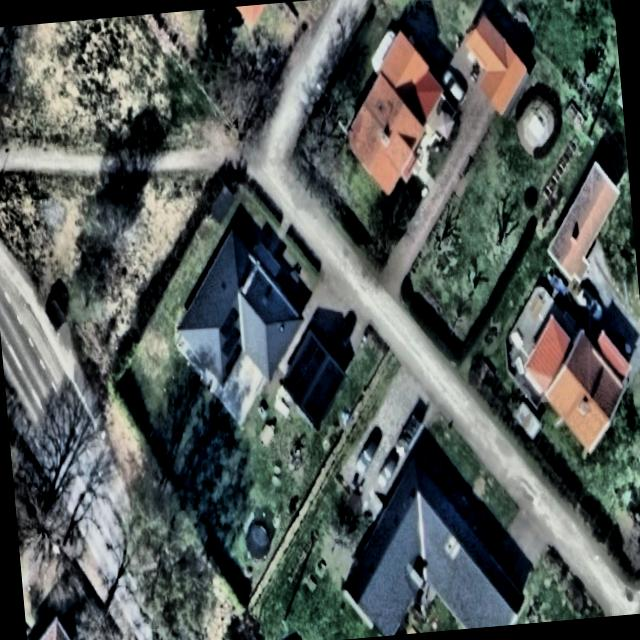roof_pv: (283, 334, 345, 433), (215, 302, 248, 382)
